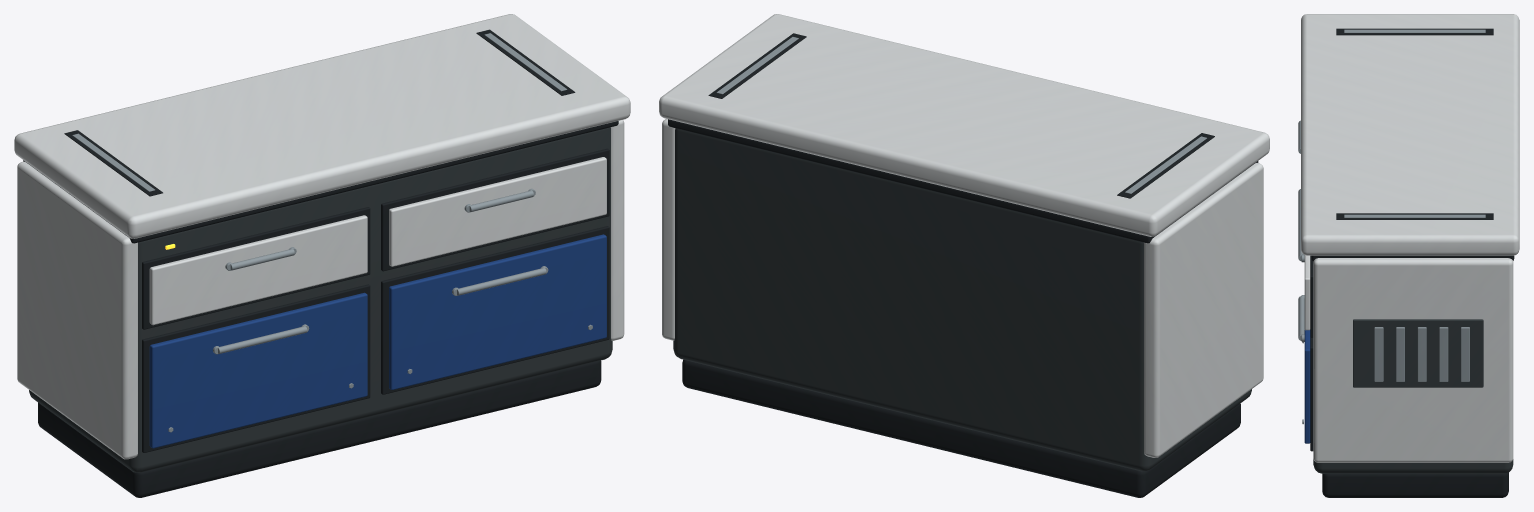
The model's file is 15_low_cover_cabinet.gltf.
3 views of the same model, side by side, from view 1: azimuth 30°, elevation 25°; view 2: azimuth 150°, elevation 25°; view 3: azimuth 270°, elevation 25° (orthographic). The views are drawn at different scales.
Parts seen in each view (by area): view 1: 15_Cryo_Ceramic_Enamel, 15_Cryo_Cobalt_Enamel, 15_Cryo_EPDM_Gasket, 15_Cryo_Anodized_Frame, 15_Cryo_Brushed_Steel; view 2: 15_Cryo_Anodized_Frame, 15_Cryo_Ceramic_Enamel, 15_Cryo_EPDM_Gasket, 15_Cryo_Brushed_Steel; view 3: 15_Cryo_Ceramic_Enamel, 15_Cryo_Anodized_Frame, 15_Cryo_EPDM_Gasket, 15_Cryo_Brushed_Steel, 15_Cryo_Cobalt_Enamel.
Boxes of the visible parts, left/top/right/bottom form: 15_Cryo_Ceramic_Enamel: left=14, top=14, right=630, bottom=459; 15_Cryo_Cobalt_Enamel: left=149, top=234, right=606, bottom=448; 15_Cryo_EPDM_Gasket: left=23, top=29, right=618, bottom=497; 15_Cryo_Anodized_Frame: left=29, top=127, right=612, bottom=472; 15_Cryo_Brushed_Steel: left=72, top=33, right=592, bottom=432; 15_Cryo_Anodized_Frame: left=673, top=128, right=1251, bottom=471; 15_Cryo_Ceramic_Enamel: left=659, top=14, right=1269, bottom=457; 15_Cryo_EPDM_Gasket: left=668, top=33, right=1258, bottom=497; 15_Cryo_Brushed_Steel: left=716, top=37, right=1206, bottom=193; 15_Cryo_Ceramic_Enamel: left=1301, top=14, right=1519, bottom=462; 15_Cryo_Anodized_Frame: left=1313, top=319, right=1513, bottom=473; 15_Cryo_EPDM_Gasket: left=1310, top=28, right=1514, bottom=497; 15_Cryo_Brushed_Steel: left=1298, top=29, right=1485, bottom=424; 15_Cryo_Cobalt_Enamel: left=1304, top=330, right=1310, bottom=443.
Size of the model in its own units: 2.01 by 1.12 by 0.829.
6 materials, 5 textured.
